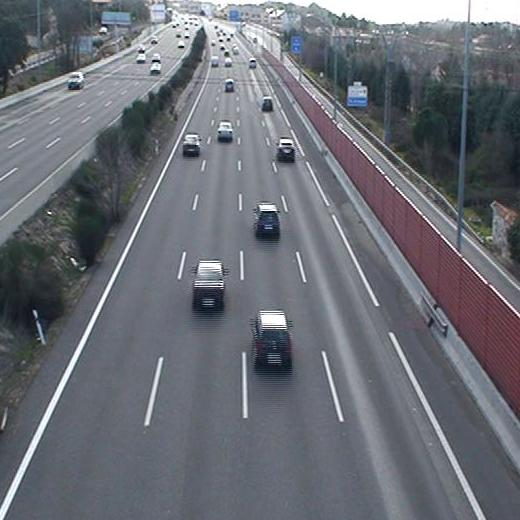car: (249, 311, 294, 371), (192, 261, 229, 309), (252, 202, 281, 235), (274, 137, 295, 161), (182, 132, 200, 156), (216, 120, 234, 140), (260, 95, 273, 111), (225, 77, 236, 93), (224, 57, 234, 67), (249, 58, 256, 69)
van: (211, 56, 220, 68)
